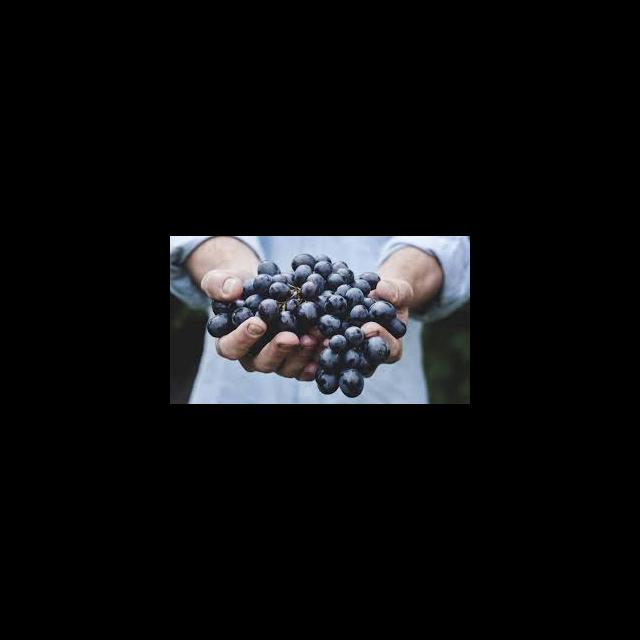grape: (206, 252, 406, 397)
